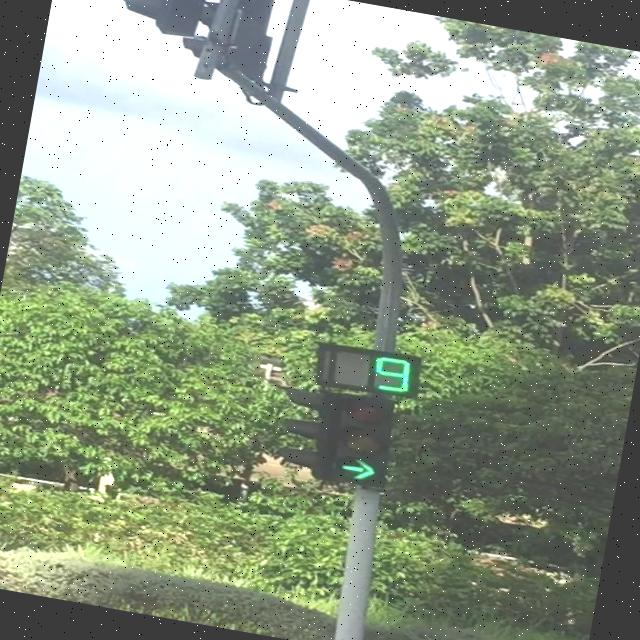green_light: (329, 389, 399, 488)
